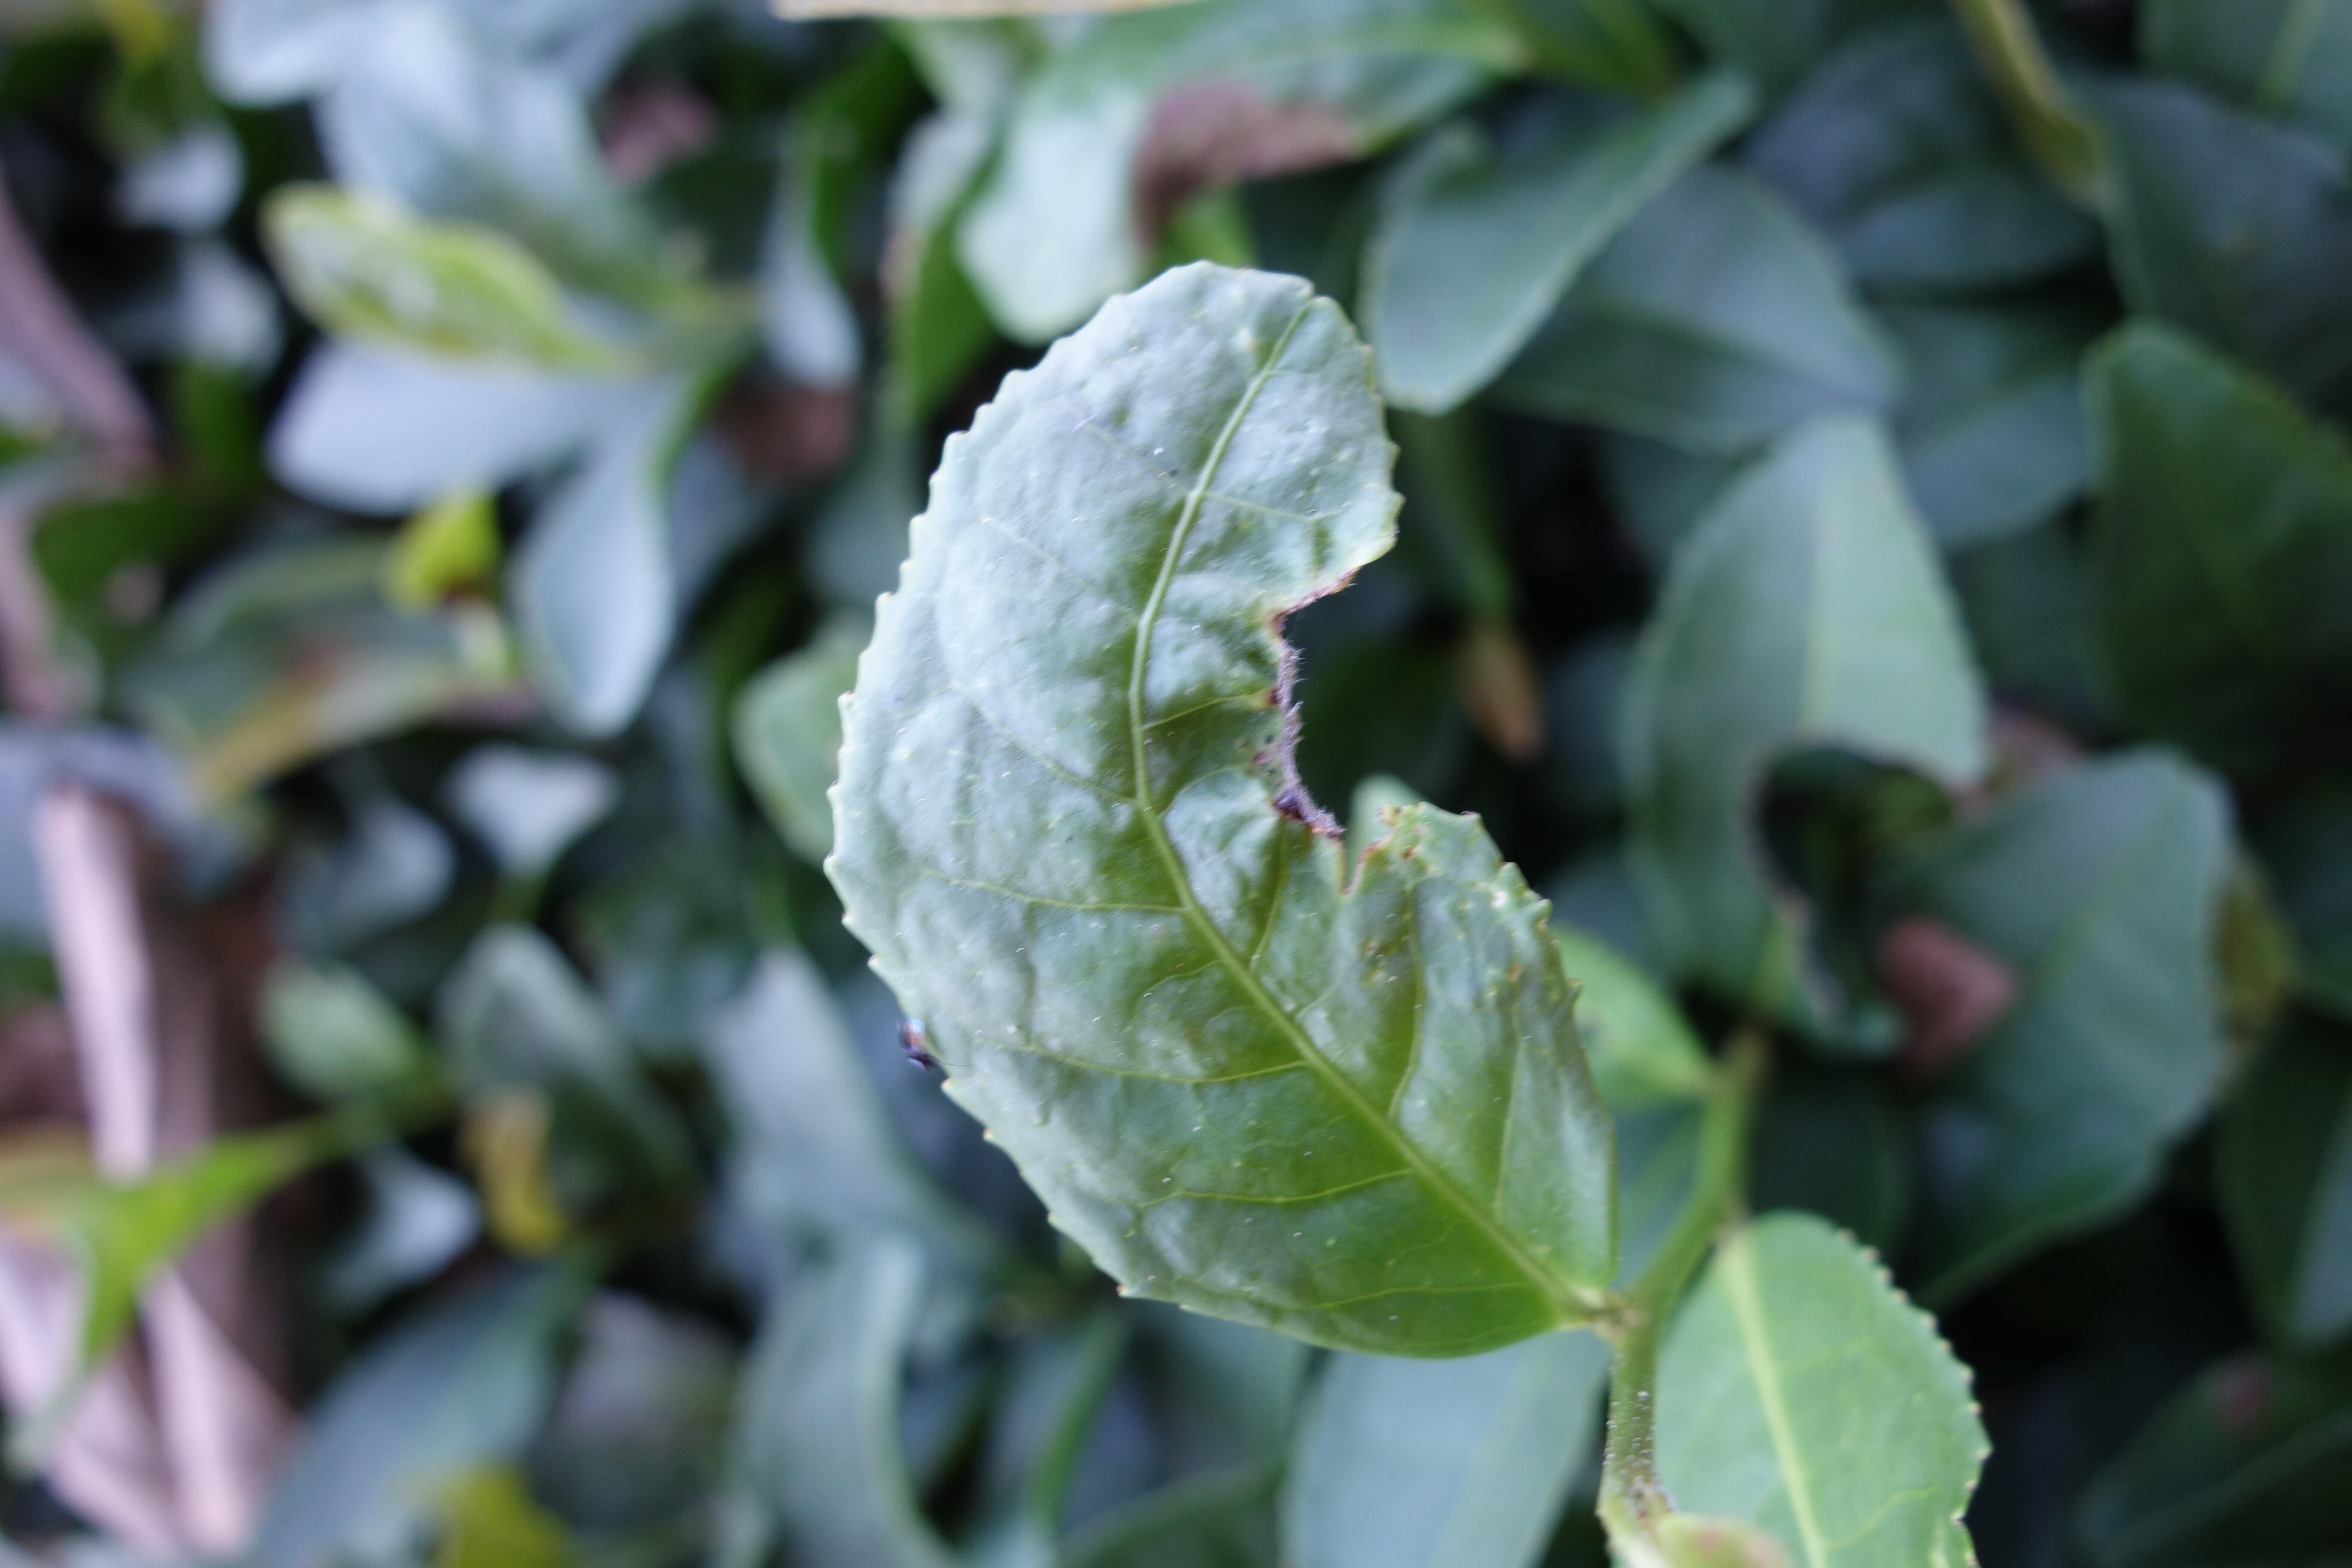chihuo_high: (828, 259, 1627, 1361)
